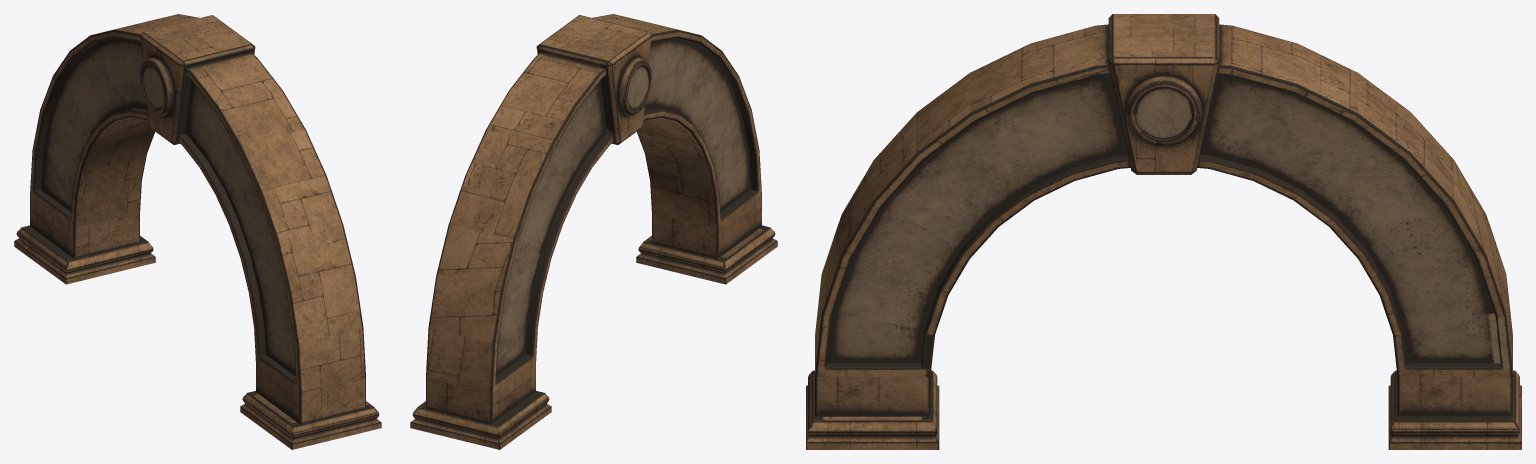
File: PillarTOP.fbx
3 views of the same model, side by side, from view 1: azimuth 30°, elevation 25°; view 2: azimuth 150°, elevation 25°; view 3: azimuth 270°, elevation 25° (orthographic). The views are drawn at different scales.
Parts seen in each view (by area): view 1: PillarTOP; view 2: PillarTOP; view 3: PillarTOP.
Boxes of the visible parts, x1,y1,x2,y2 form: PillarTOP: (14,14,381,449); PillarTOP: (410,14,777,449); PillarTOP: (806,14,1521,449).
Size of the model in its own units: 0.8567 by 2.71 by 4.55.
Materials: 1 (1 with a texture image).
